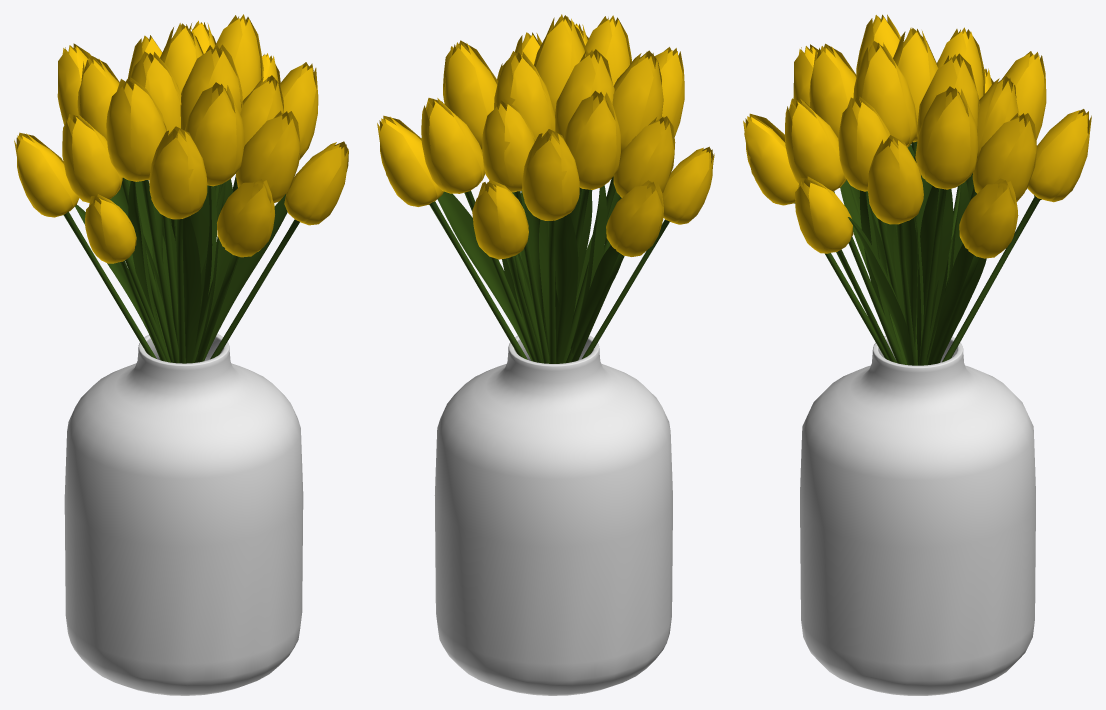
Rendered from Flower.fbx.
The picture shows the model from 3 angles, left to right: view 1: azimuth 30°, elevation 25°; view 2: azimuth 150°, elevation 25°; view 3: azimuth 270°, elevation 25°; orthographic projection.
Parts seen in each view (by area): view 1: Vase Tulips 12, Vase Tulips 12_168, Vase Tulips 12_41, Vase Tulips 12_49, Vase Tulips 12_47, Vase Tulips 12_144, Vase Tulips 12_151, Vase Tulips 12_122, Vase Tulips 12_149, Vase Tulips 12_79, Vase Tulips 12_65, Vase Tulips 12_165 (+20 smaller); view 2: Vase Tulips 12, Vase Tulips 12_168, Vase Tulips 12_89, Vase Tulips 12_58, Vase Tulips 12_141, Vase Tulips 12_88, Vase Tulips 12_8, Vase Tulips 12_69, Vase Tulips 12_46, Vase Tulips 12_53, Vase Tulips 12_109, Vase Tulips 12_104 (+21 smaller); view 3: Vase Tulips 12, Vase Tulips 12_168, Vase Tulips 12_30, Vase Tulips 12_76, Vase Tulips 12_6, Vase Tulips 12_28, Vase Tulips 12_118, Vase Tulips 12_101, Vase Tulips 12_114, Vase Tulips 12_99, Vase Tulips 12_40, Vase Tulips 12_80 (+18 smaller).
Boxes of the visible parts, <box> form: Vase Tulips 12: <box>64,334,303,695</box>; Vase Tulips 12_168: <box>63,175,299,363</box>; Vase Tulips 12_41: <box>194,92,236,186</box>; Vase Tulips 12_49: <box>150,137,193,219</box>; Vase Tulips 12_47: <box>72,120,120,201</box>; Vase Tulips 12_144: <box>17,139,72,217</box>; Vase Tulips 12_151: <box>130,83,166,180</box>; Vase Tulips 12_122: <box>284,147,341,222</box>; Vase Tulips 12_149: <box>225,188,273,257</box>; Vase Tulips 12_79: <box>106,86,144,181</box>; Vase Tulips 12_65: <box>259,119,299,203</box>; Vase Tulips 12_165: <box>236,116,282,187</box>; Vase Tulips 12: <box>434,335,672,695</box>; Vase Tulips 12_168: <box>429,176,670,363</box>; Vase Tulips 12_89: <box>429,104,481,193</box>; Vase Tulips 12_58: <box>574,99,616,189</box>; Vase Tulips 12_141: <box>379,122,437,206</box>; Vase Tulips 12_88: <box>524,140,566,220</box>; Vase Tulips 12_8: <box>445,48,487,150</box>; Vase Tulips 12_69: <box>612,57,653,154</box>; Vase Tulips 12_46: <box>510,57,552,140</box>; Vase Tulips 12_53: <box>535,20,571,115</box>; Vase Tulips 12_109: <box>613,121,660,197</box>; Vase Tulips 12_104: <box>662,151,709,222</box>; Vase Tulips 12: <box>800,335,1035,695</box>; Vase Tulips 12_168: <box>794,141,1041,365</box>; Vase Tulips 12_30: <box>924,96,970,189</box>; Vase Tulips 12_76: <box>791,105,844,191</box>; Vase Tulips 12_6: <box>744,120,798,205</box>; Vase Tulips 12_28: <box>1027,114,1087,200</box>; Vase Tulips 12_118: <box>862,48,910,145</box>; Vase Tulips 12_101: <box>867,145,907,224</box>; Vase Tulips 12_114: <box>810,51,848,137</box>; Vase Tulips 12_99: <box>968,189,1015,258</box>; Vase Tulips 12_40: <box>808,182,852,252</box>; Vase Tulips 12_80: <box>972,118,1019,193</box>.
Bounding box in the file's own units: 19.79 × 43.82 × 22.14.
